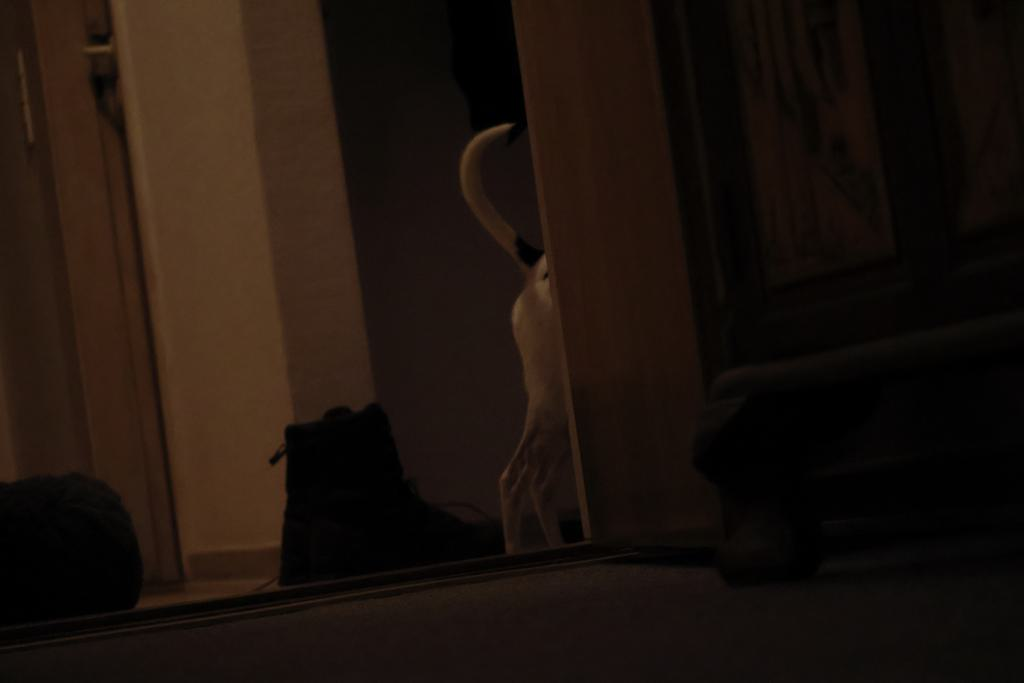Dog: (447, 114, 594, 569)
